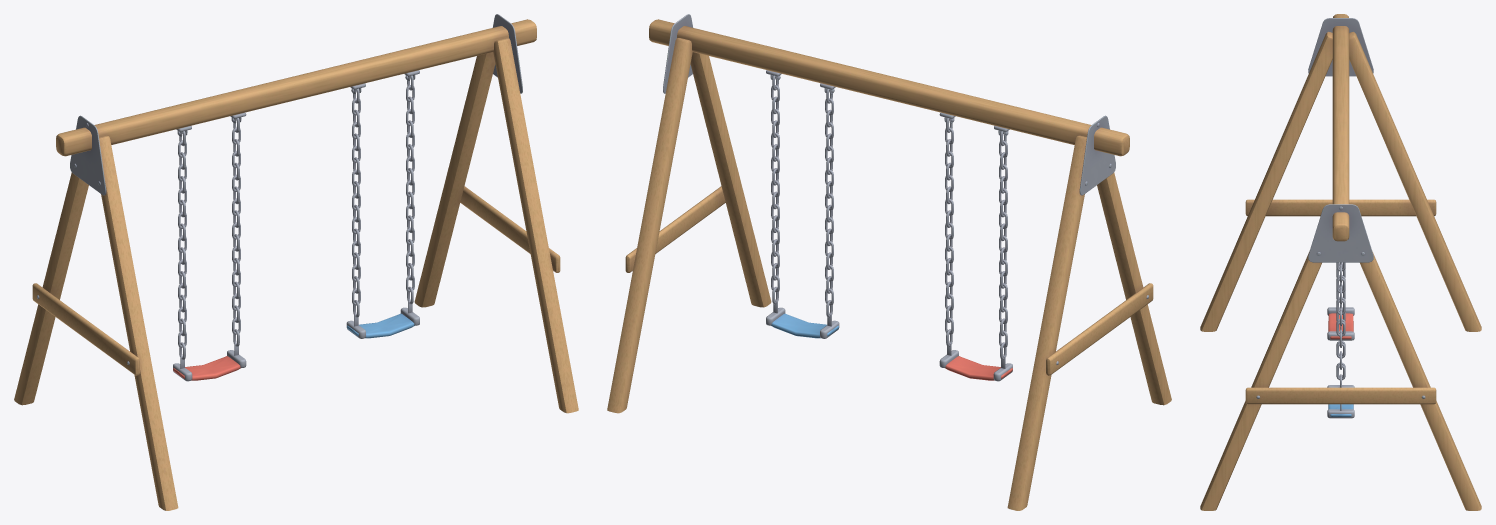
File: swing_set.glb
The picture shows the model from 3 angles, left to right: view 1: azimuth 30°, elevation 25°; view 2: azimuth 150°, elevation 25°; view 3: azimuth 270°, elevation 25°; orthographic projection. The views are drawn at different scales.
Visible parts, largest first — view 1: swing-set_body, swing-set_swing_b, swing-set_swing_a; view 2: swing-set_body, swing-set_swing_b, swing-set_swing_a; view 3: swing-set_body, swing-set_swing_b, swing-set_swing_a.
Boxes of the visible parts, x1,y1,x2,y2 form: swing-set_body: (14,14,578,510); swing-set_swing_b: (346,75,419,338); swing-set_swing_a: (173,118,246,381); swing-set_body: (607,14,1171,510); swing-set_swing_b: (766,75,839,338); swing-set_swing_a: (939,118,1012,381); swing-set_body: (1200,14,1481,510); swing-set_swing_b: (1327,262,1354,418); swing-set_swing_a: (1327,262,1354,340).
Size of the model in its own units: 3.6 by 2.43 by 2.02.
Materials: 3 (3 with a texture image).
